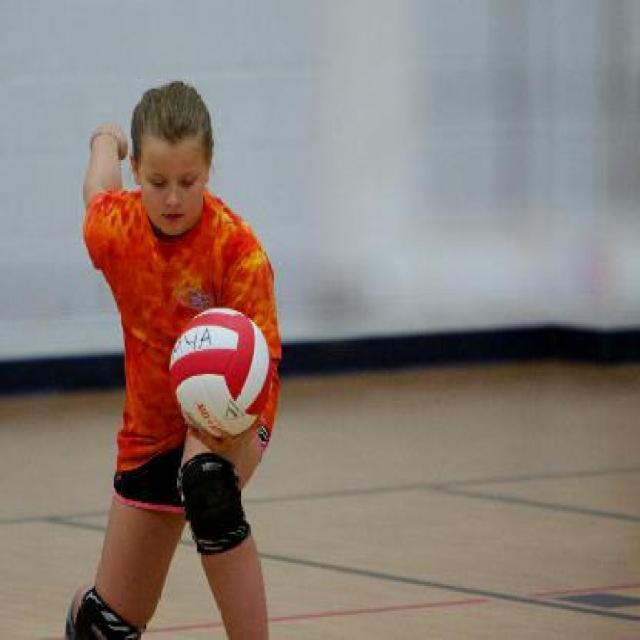volleyball: (168, 308, 272, 440)
